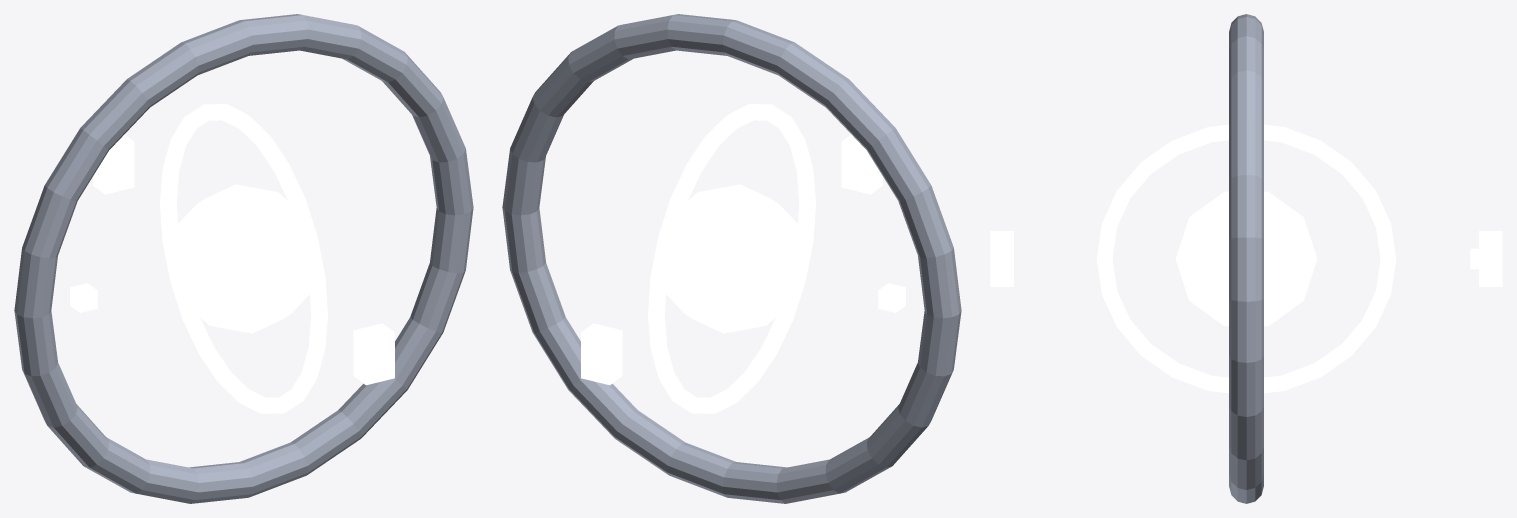
File: guardian.glb
The picture shows the model from 3 angles, left to right: view 1: azimuth 30°, elevation 25°; view 2: azimuth 150°, elevation 25°; view 3: azimuth 270°, elevation 25°; orthographic projection. The views are drawn at different scales.
Parts seen in each view (by area): view 1: ring, hub, shield_mark, blade_s, blade_n, asym_gnode; view 2: ring, hub, shield_mark, blade_n, blade_s, asym_gnode; view 3: ring, shield_mark, hub, blade_n, blade_s.
Part boxes in pixels (x1,y1,x2,y2): ring: [14, 14, 473, 503]; hub: [170, 184, 309, 333]; shield_mark: [160, 104, 327, 413]; blade_s: [353, 323, 394, 385]; blade_n: [93, 134, 134, 194]; asym_gnode: [70, 283, 97, 312]; ring: [502, 14, 961, 503]; hub: [666, 184, 805, 333]; shield_mark: [648, 104, 815, 413]; blade_n: [581, 323, 622, 385]; blade_s: [841, 134, 882, 194]; asym_gnode: [878, 283, 905, 312]; ring: [1229, 14, 1263, 503]; shield_mark: [1096, 124, 1396, 393]; hub: [1175, 191, 1317, 326]; blade_n: [1479, 231, 1502, 286]; blade_s: [990, 231, 1013, 286].
Size of the model in its own units: 0.624 by 0.624 by 0.65.
